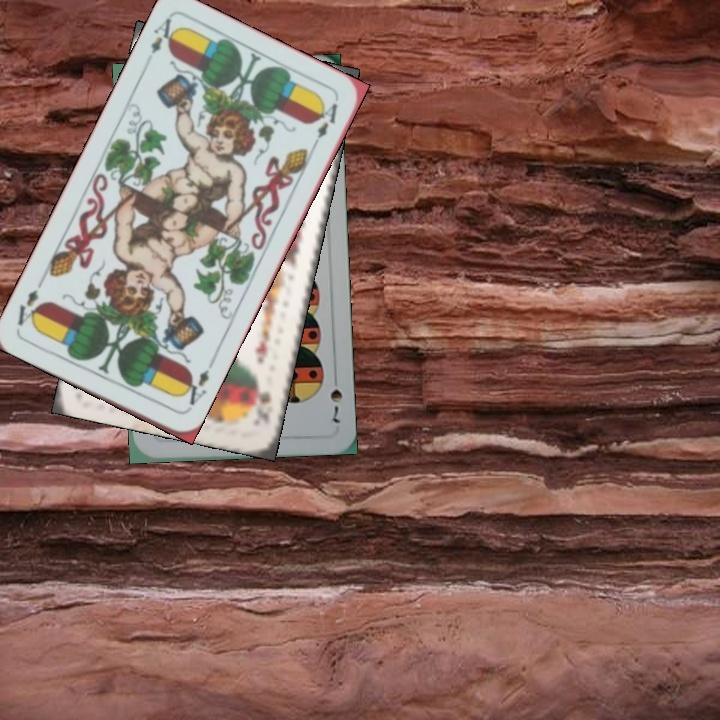EA: (176, 365, 212, 414), (146, 13, 181, 57)
S7: (326, 369, 345, 425)
SK: (254, 377, 276, 419)
